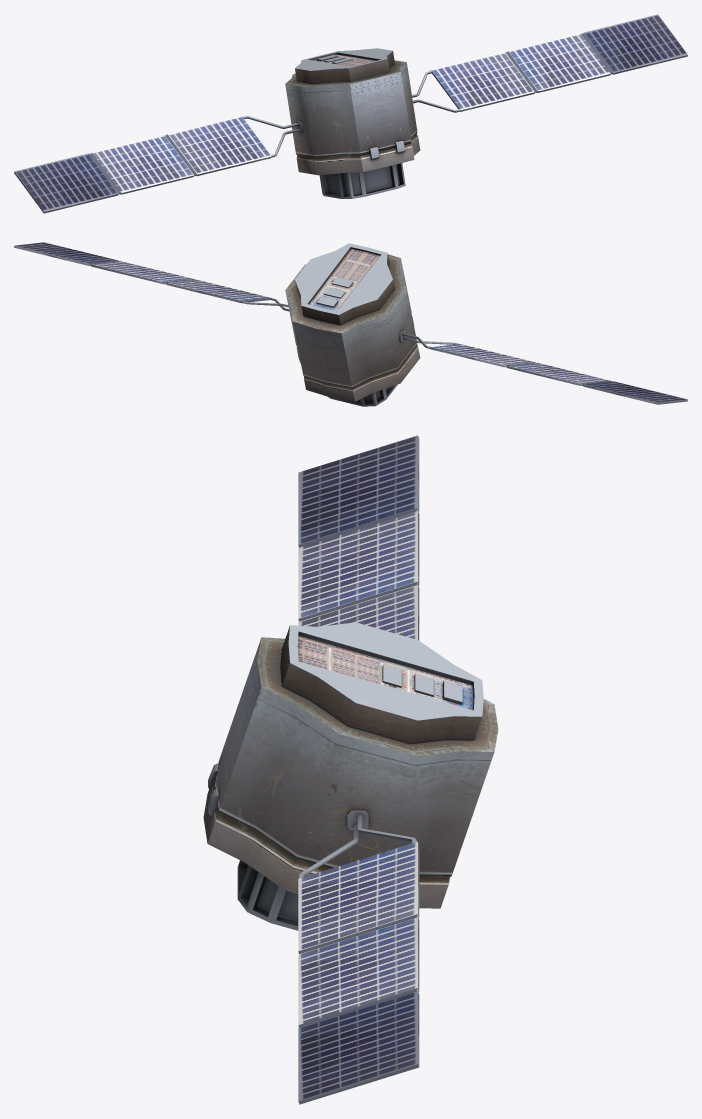
File: sputnik3.fbx
3 views of the same model, one above another, from view 1: azimuth 30°, elevation 25°; view 2: azimuth 150°, elevation 25°; view 3: azimuth 270°, elevation 25° (orthographic). The views are drawn at different scales.
Parts seen in each view (by area): view 1: Cube; view 2: Cube; view 3: Cube.
Part boxes in pixels (x1=…): Cube: x1=14, y1=14, x2=687, y2=213; Cube: x1=14, y1=242, x2=687, y2=406; Cube: x1=203, y1=435, x2=498, y2=1104.
Size of the model in its own units: 1643 by 340 by 326.
